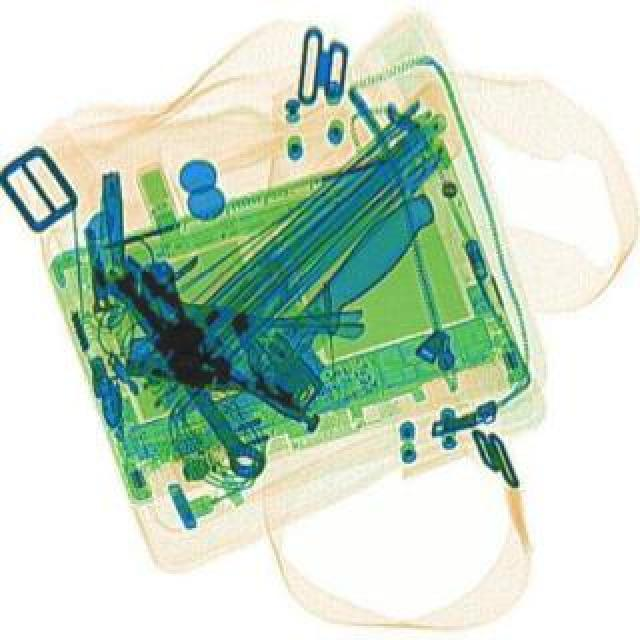gun: (98, 254, 338, 438)
knife: (188, 182, 444, 456)
